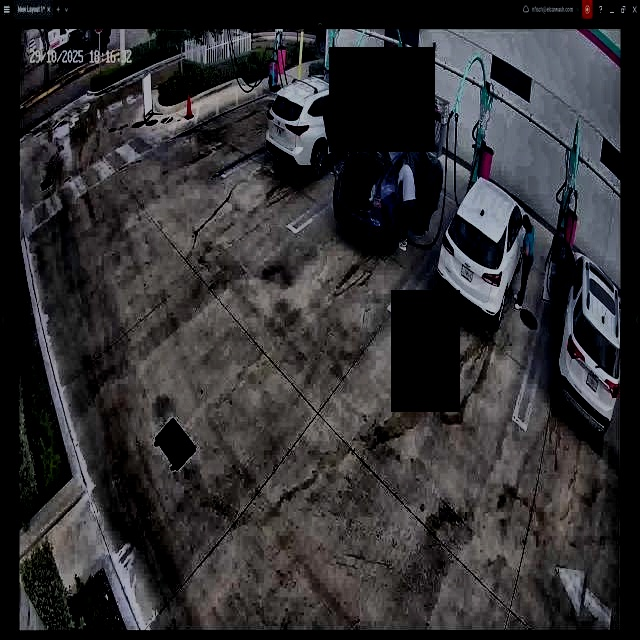Car: (333, 110, 442, 254), (436, 177, 529, 330), (265, 75, 380, 180)
